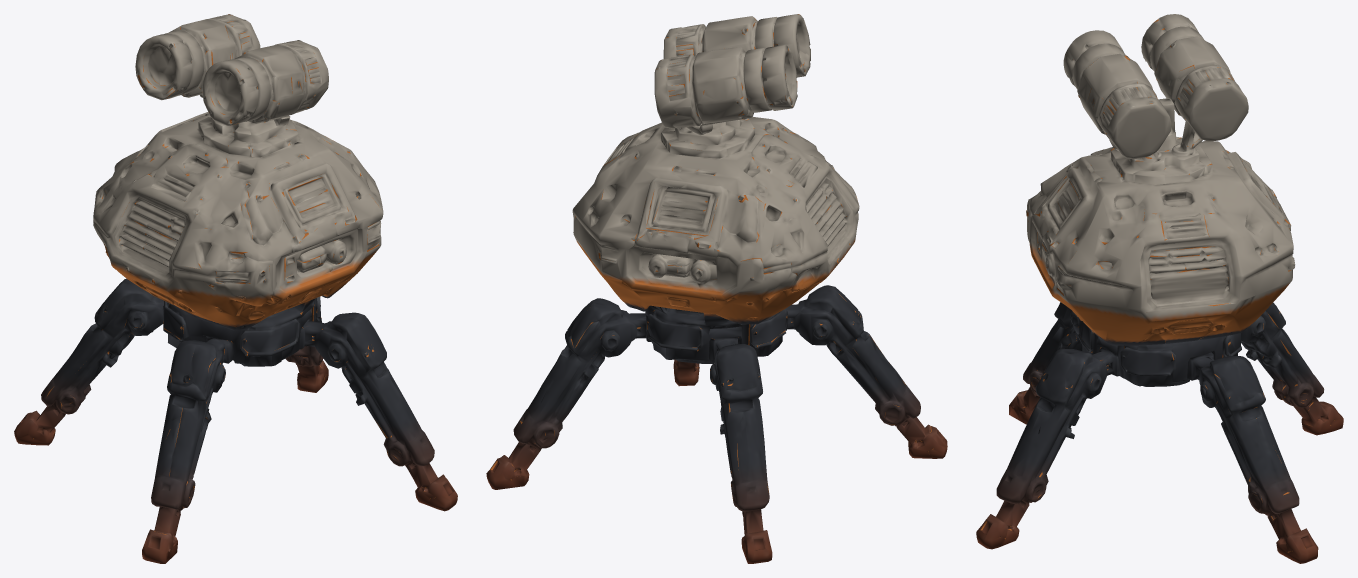
Rendered from SM_Tripo_SentryTurret.fbx.
3 renders of one model, left to right at view 1: azimuth 30°, elevation 25°; view 2: azimuth 150°, elevation 25°; view 3: azimuth 270°, elevation 25°, orthographic.
Visible parts, largest first — view 1: SM_Tripo_SentryTurret; view 2: SM_Tripo_SentryTurret; view 3: SM_Tripo_SentryTurret.
Boxes of the visible parts, <box> form: SM_Tripo_SentryTurret: <box>14,14,457,563</box>; SM_Tripo_SentryTurret: <box>486,14,947,563</box>; SM_Tripo_SentryTurret: <box>976,14,1343,563</box>.
Bounding box in the file's own units: 110 × 145 × 110.
1 material, 1 textured.
